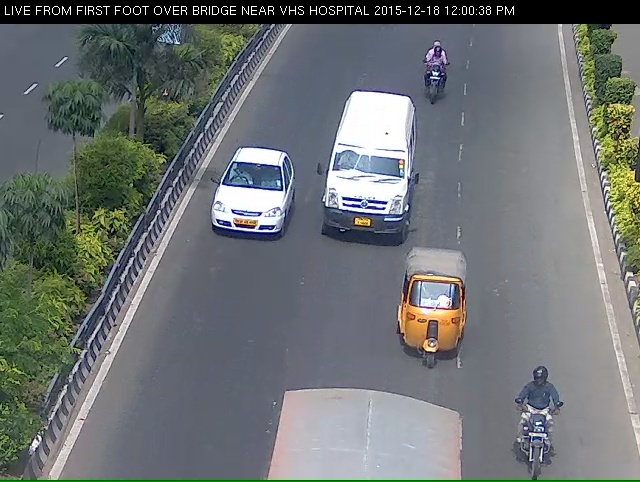Bus: (325, 101, 407, 258)
Car: (388, 265, 472, 398), (199, 158, 295, 261)
Person: (503, 401, 572, 475), (413, 48, 454, 115)
